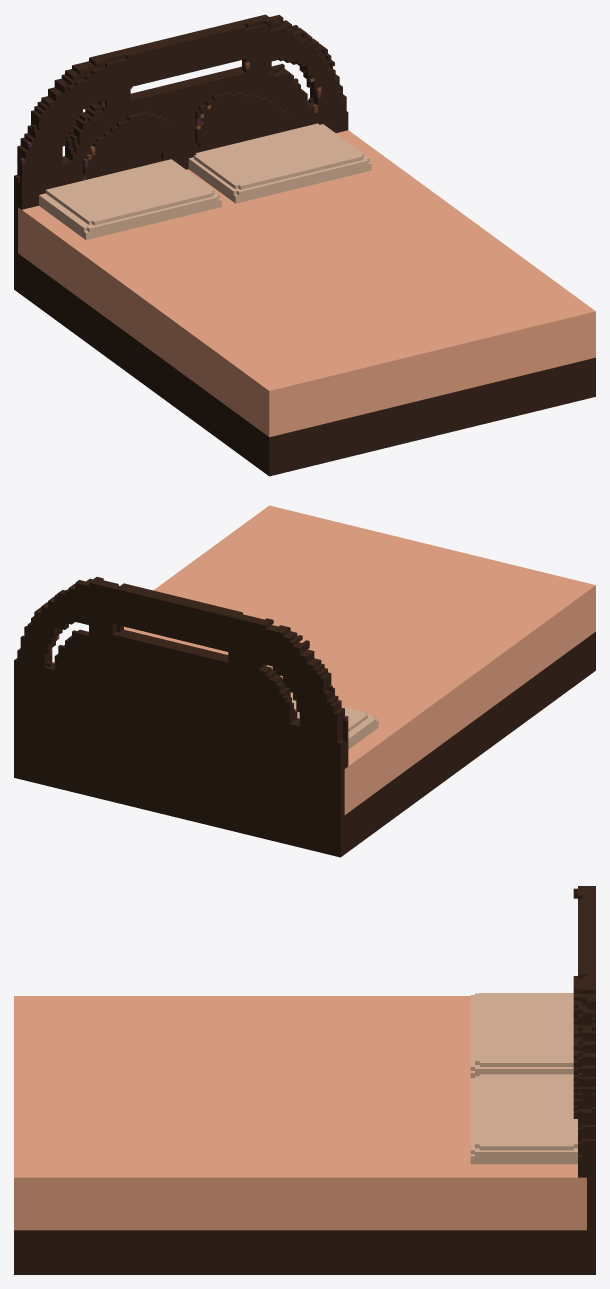
The model's file is beda.vox-11.obj.
3 renders of one model, top to bottom at view 1: azimuth 30°, elevation 25°; view 2: azimuth 150°, elevation 25°; view 3: azimuth 270°, elevation 25°, orthographic. The views are drawn at different scales.
Bounding box in the file's own units: 9.6 × 6 × 13.
1 material, 1 textured.
